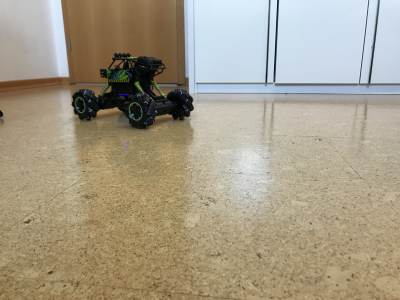remote control car: (69, 51, 196, 132)
